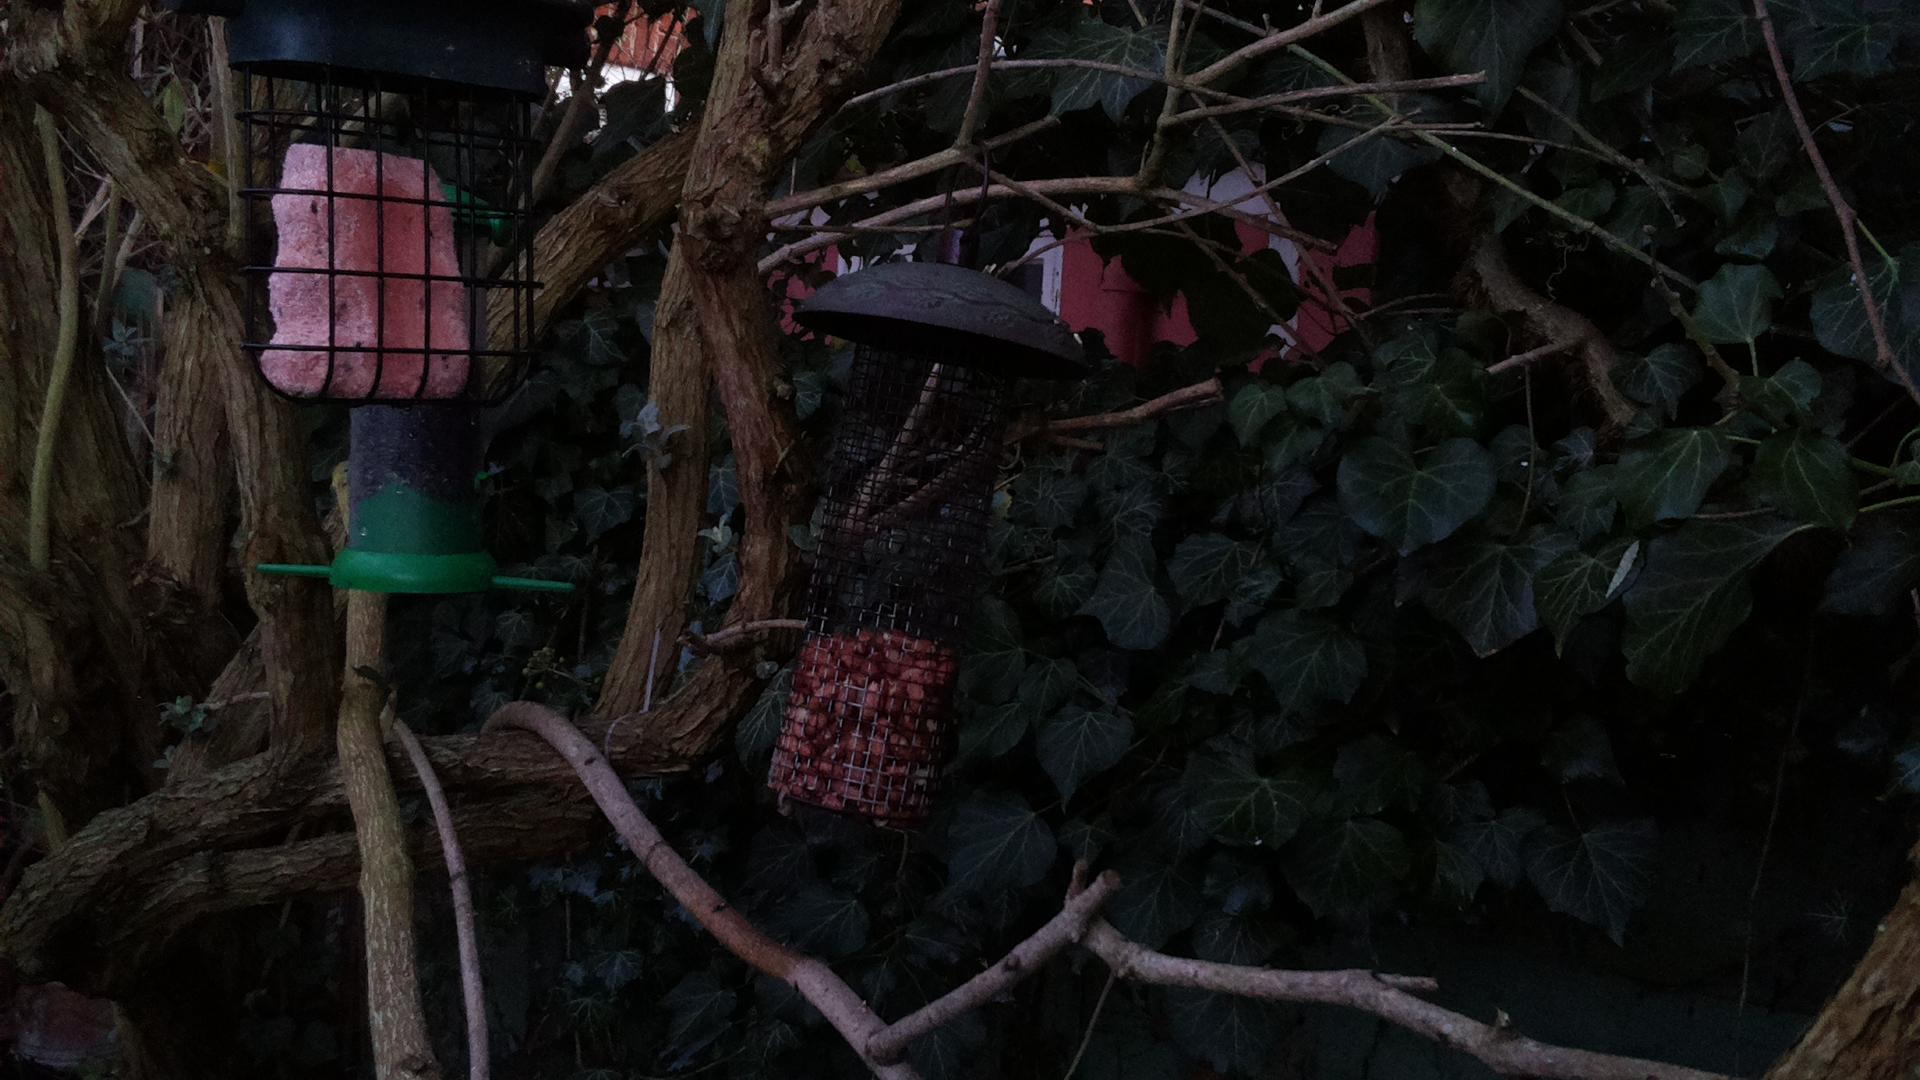unclassified: (1406, 818, 1909, 1079), (1015, 775, 1120, 934), (633, 255, 709, 440)
